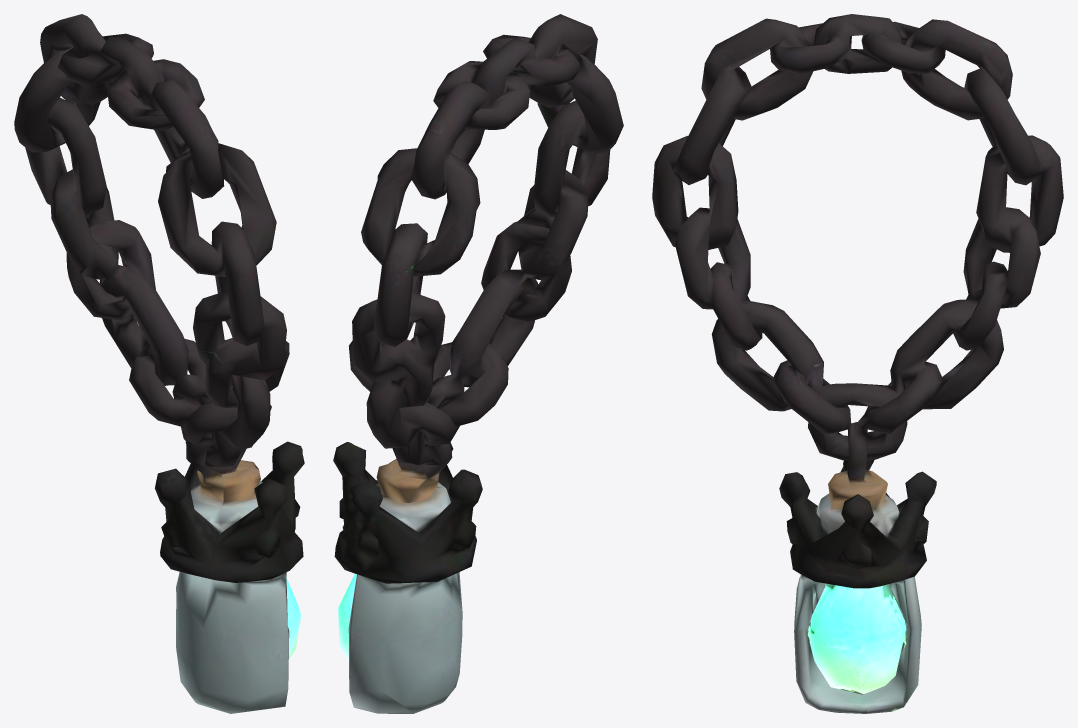
File: uq_amu_phylactery-Dww6yG7D.glb
3 renders of one model, left to right at view 1: azimuth 30°, elevation 25°; view 2: azimuth 150°, elevation 25°; view 3: azimuth 270°, elevation 25°, orthographic. The views are drawn at different scales.
Parts seen in each view (by area): view 1: tripo_node_28bb8d20-6bd8-42c6-adb5-7608b4c4e500; view 2: tripo_node_28bb8d20-6bd8-42c6-adb5-7608b4c4e500; view 3: tripo_node_28bb8d20-6bd8-42c6-adb5-7608b4c4e500.
Part boxes in pixels (x1=…): tripo_node_28bb8d20-6bd8-42c6-adb5-7608b4c4e500: x1=14, y1=14, x2=304, y2=713; tripo_node_28bb8d20-6bd8-42c6-adb5-7608b4c4e500: x1=333, y1=14, x2=623, y2=713; tripo_node_28bb8d20-6bd8-42c6-adb5-7608b4c4e500: x1=652, y1=14, x2=1063, y2=713.
Size of the model in its own units: 0.3238 by 1 by 0.5815.
1 material, 1 textured.
